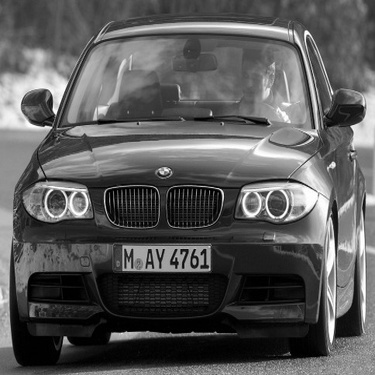car: (4, 9, 369, 371)
